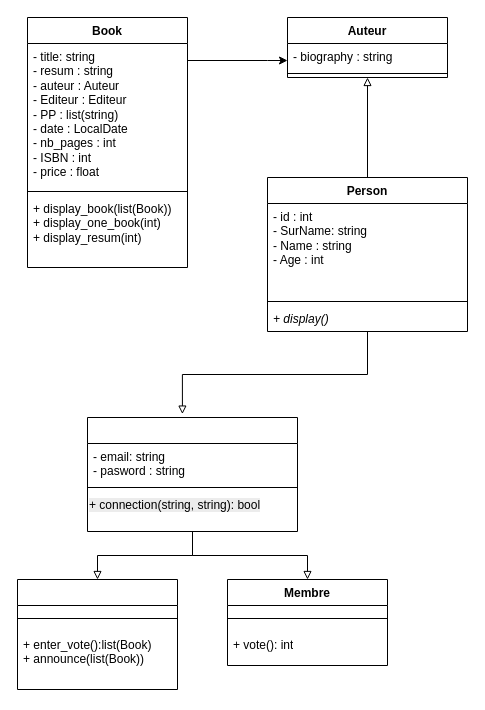
This 485x710 diagram has some shape labels left out. Each missing label, with the box of its shape:
Président: (16, 578, 178, 690)
User: (86, 416, 298, 532)
